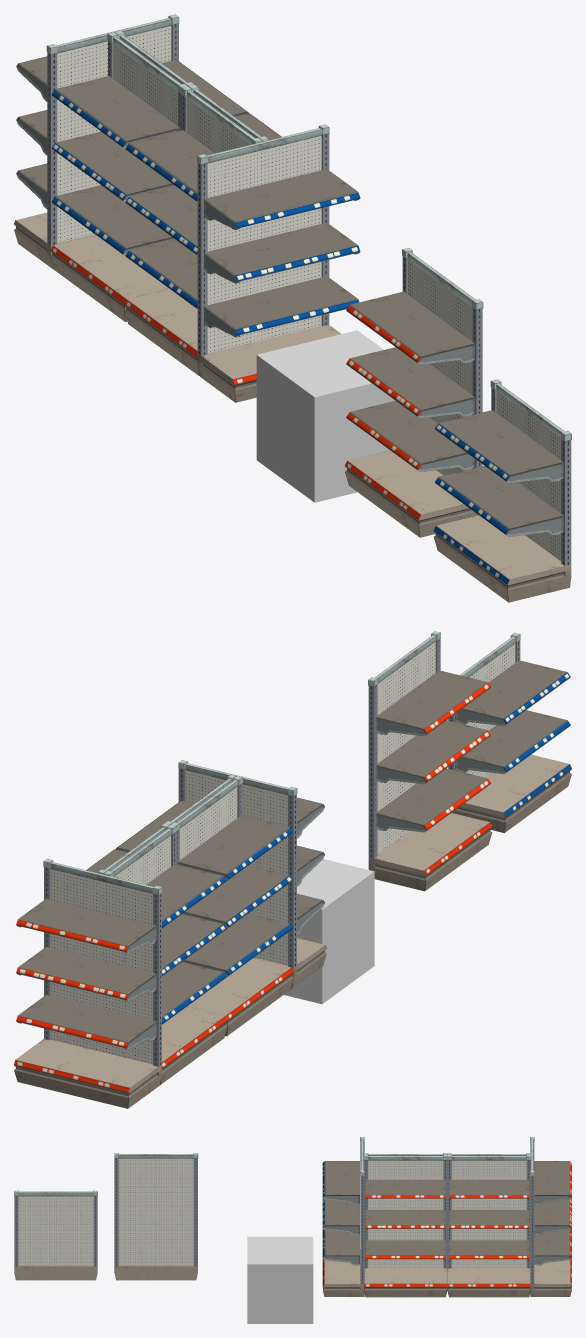
File: shelves1.glb
3 views of the same model, one above another, from view 1: azimuth 30°, elevation 25°; view 2: azimuth 150°, elevation 25°; view 3: azimuth 270°, elevation 25° (orthographic). The views are drawn at different scales.
Parts seen in each view (by area): view 1: shelf_Base_Expo004, Cube, shelf_Base_shortexp, shelf_Base_Expo006, shelf_Base_Expo005, shelf_Base_Expo001, shelf_Base_Expo, shelf_piece_exp030, shelf_piece_exp031, shelf_piece_exp004, shelf_piece_exp022, shelf_piece_exp029 (+13 smaller); view 2: shelf_Base_Expo005, shelf_Base_Expo006, Cube, shelf_Base_Expo004, shelf_Base_Expo, shelf_Base_shortexp, shelf_Base_Expo001, shelf_piece_exp017, shelf_piece_exp019, shelf_piece_exp018, shelf_piece_exp022, shelf_piece_exp020 (+13 smaller); view 3: shelf_Base_Expo006, shelf_Base_Expo003, shelf_Base_shortexp, shelf_Base_Expo002, Cube, shelf_Base_Expo004, shelf_Base_Expo005, shelf_piece_exp008, shelf_piece_exp011, shelf_piece_exp019, shelf_piece_exp031, shelf_piece_exp012 (+7 smaller).
Part boxes in pixels (box(x1,y1,x2,y2)): shelf_Base_Expo004: box(197, 124, 340, 402); Cube: box(256, 330, 395, 502); shelf_Base_shortexp: box(433, 379, 571, 602); shelf_Base_Expo006: box(345, 248, 483, 537); shelf_Base_Expo005: box(14, 14, 179, 269); shelf_Base_Expo001: box(51, 32, 187, 321); shelf_Base_Expo: box(124, 86, 262, 375); shelf_piece_exp030: box(204, 222, 360, 283); shelf_piece_exp031: box(204, 169, 360, 229); shelf_piece_exp004: box(435, 410, 563, 483); shelf_piece_exp022: box(346, 291, 474, 364); shelf_piece_exp029: box(204, 276, 359, 337); shelf_Base_Expo005: box(14, 859, 162, 1108); shelf_Base_Expo006: box(368, 631, 492, 891); Cube: box(284, 859, 374, 1004); shelf_Base_Expo004: box(178, 760, 326, 989); shelf_Base_Expo: box(171, 776, 293, 1036); shelf_Base_shortexp: box(448, 632, 571, 832); shelf_Base_Expo001: box(103, 824, 227, 1084); shelf_piece_exp017: box(16, 995, 156, 1049); shelf_piece_exp019: box(16, 899, 156, 953); shelf_piece_exp018: box(16, 947, 156, 1001); shelf_piece_exp022: box(375, 670, 490, 736); shelf_piece_exp020: box(375, 768, 490, 832); shelf_Base_Expo006: box(114, 1153, 198, 1280); shelf_Base_Expo003: box(363, 1154, 447, 1297); shelf_Base_shortexp: box(14, 1190, 97, 1280); shelf_Base_Expo002: box(447, 1154, 530, 1297); Cube: box(247, 1236, 313, 1323); shelf_Base_Expo004: box(322, 1137, 364, 1296); shelf_Base_Expo005: box(530, 1137, 571, 1296); shelf_piece_exp008: box(449, 1240, 529, 1259); shelf_piece_exp011: box(365, 1240, 445, 1259); shelf_piece_exp019: box(534, 1161, 571, 1204); shelf_piece_exp031: box(322, 1161, 359, 1205); shelf_piece_exp012: box(365, 1210, 445, 1229).
Bounding box in the file's own units: 2.55 × 5.21 × 16.97.
3 materials, 2 textured.
